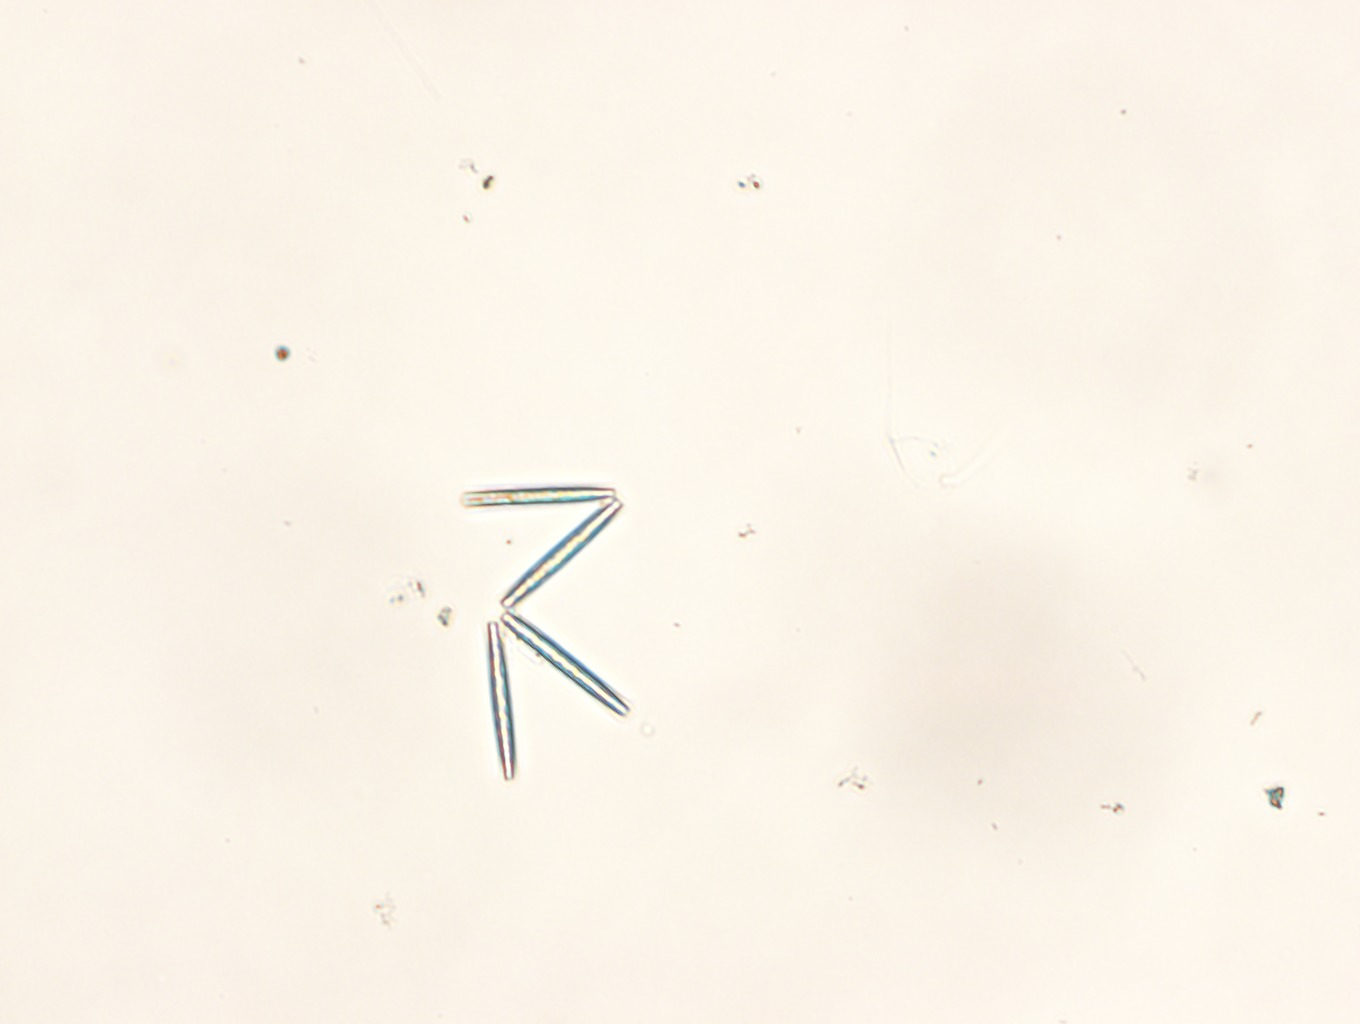thalassionema nitzschioides: (462, 487, 630, 781)
